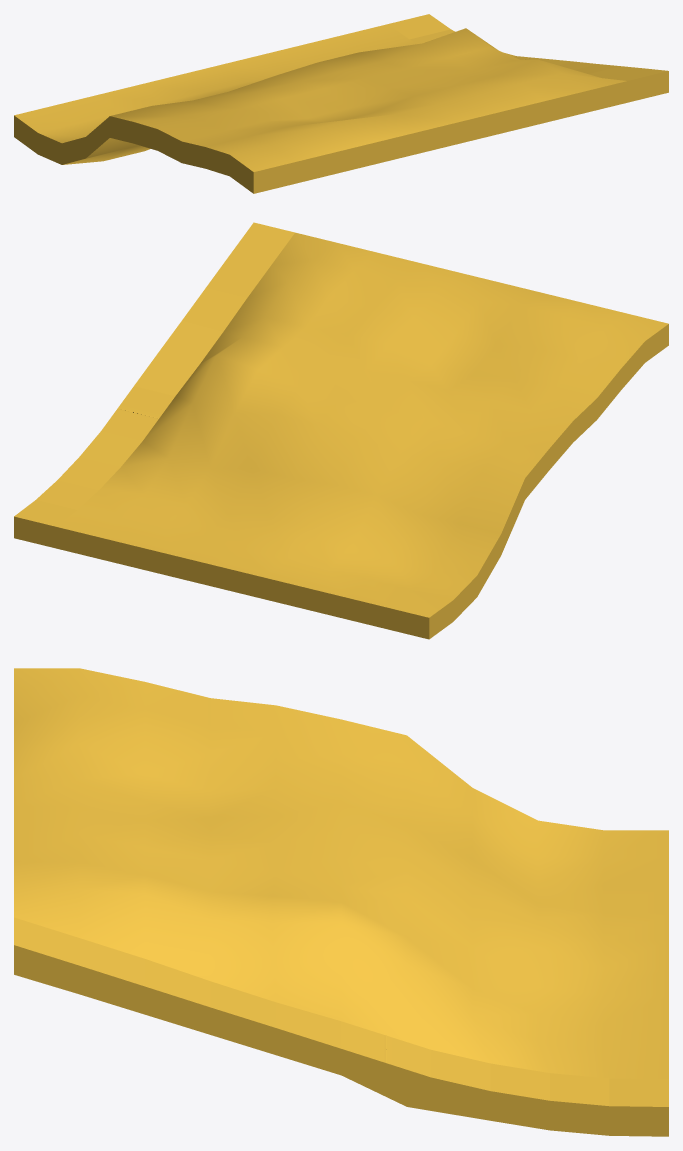
The model's file is Flach - Unten - Hügel x - a.fbx.
3 views of the same model, one above another, from view 1: azimuth 30°, elevation 25°; view 2: azimuth 150°, elevation 25°; view 3: azimuth 270°, elevation 25° (orthographic). The views are drawn at different scales.
Visible parts, largest first — view 1: Flach - Unten - Hügel x - a; view 2: Flach - Unten - Hügel x - a; view 3: Flach - Unten - Hügel x - a.
Boxes of the visible parts, bbox=[...] form: Flach - Unten - Hügel x - a: bbox=[14, 14, 668, 193]; Flach - Unten - Hügel x - a: bbox=[14, 222, 668, 639]; Flach - Unten - Hügel x - a: bbox=[14, 668, 668, 1136].
Bounding box in the file's own units: 394 × 132 × 394.
